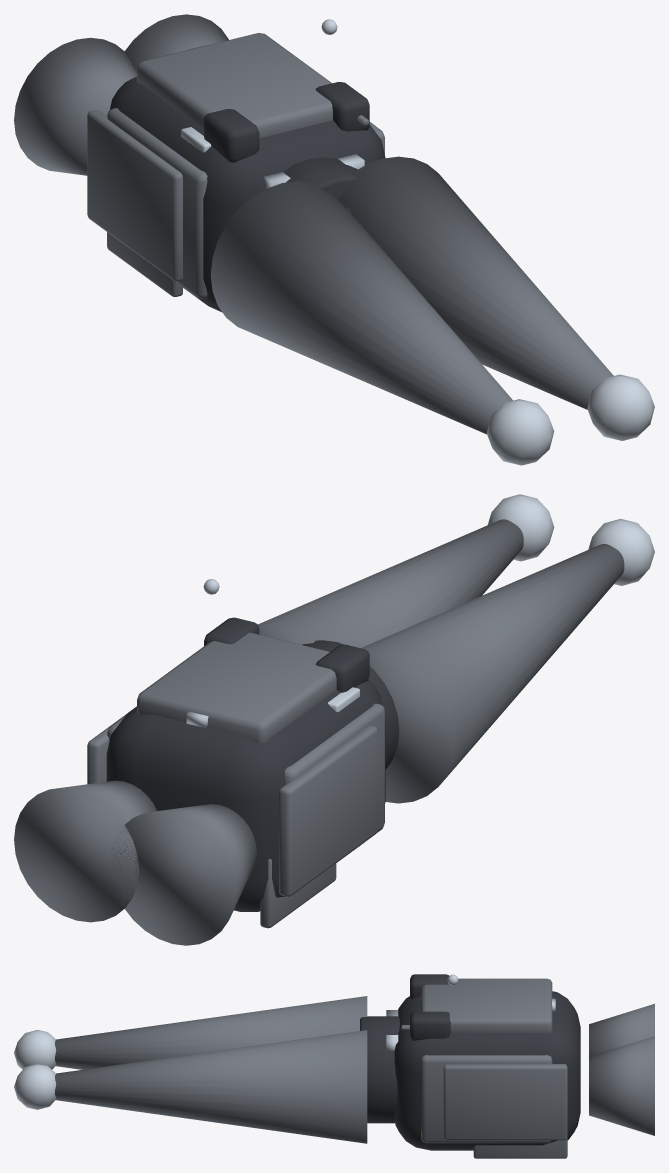
Rendered from weapon_drone_dragon_breath.glb.
3 renders of one model, top to bottom at view 1: azimuth 30°, elevation 25°; view 2: azimuth 150°, elevation 25°; view 3: azimuth 270°, elevation 25°, orthographic. The views are drawn at different scales.
Parts seen in each view (by area): view 1: weapon_drone_dragon_breath; view 2: weapon_drone_dragon_breath; view 3: weapon_drone_dragon_breath.
Part boxes in pixels (x1,y1,x2,y2): weapon_drone_dragon_breath: (14,14,654,465); weapon_drone_dragon_breath: (14,494,654,945); weapon_drone_dragon_breath: (14,974,654,1158).
Size of the model in its own units: 0.7656 by 0.7692 by 2.53.
